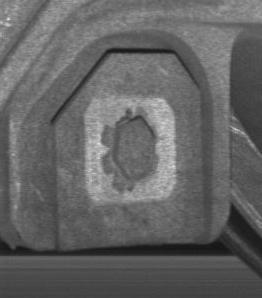Bolt: (110, 117, 156, 178)
